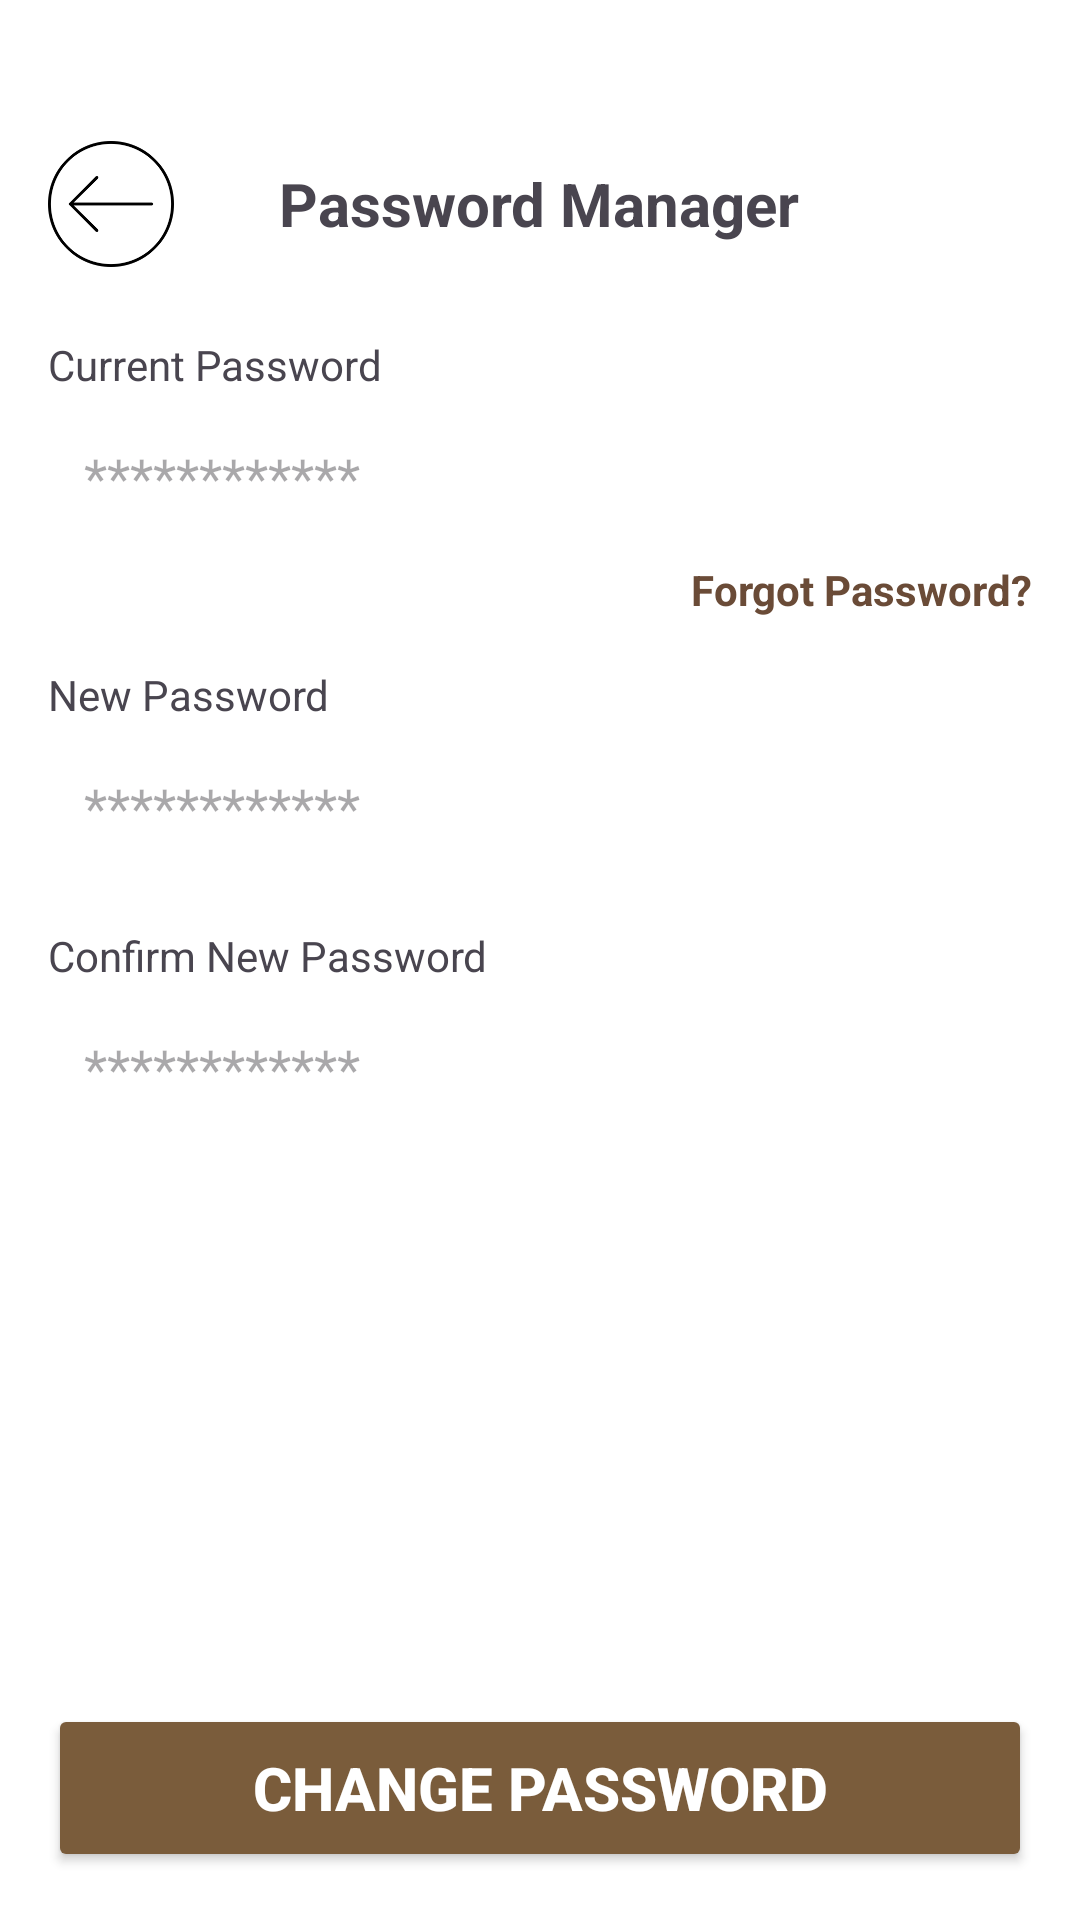

Named icons in this screenshot (1080px x 1920px) and their centers, point (x, y):
back: point (111, 204)
